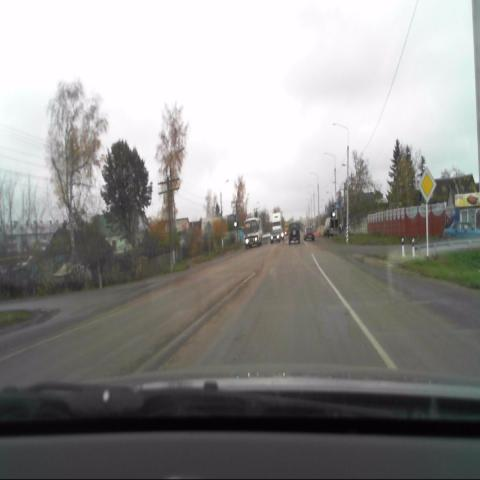2_1: (416, 167, 436, 202)
